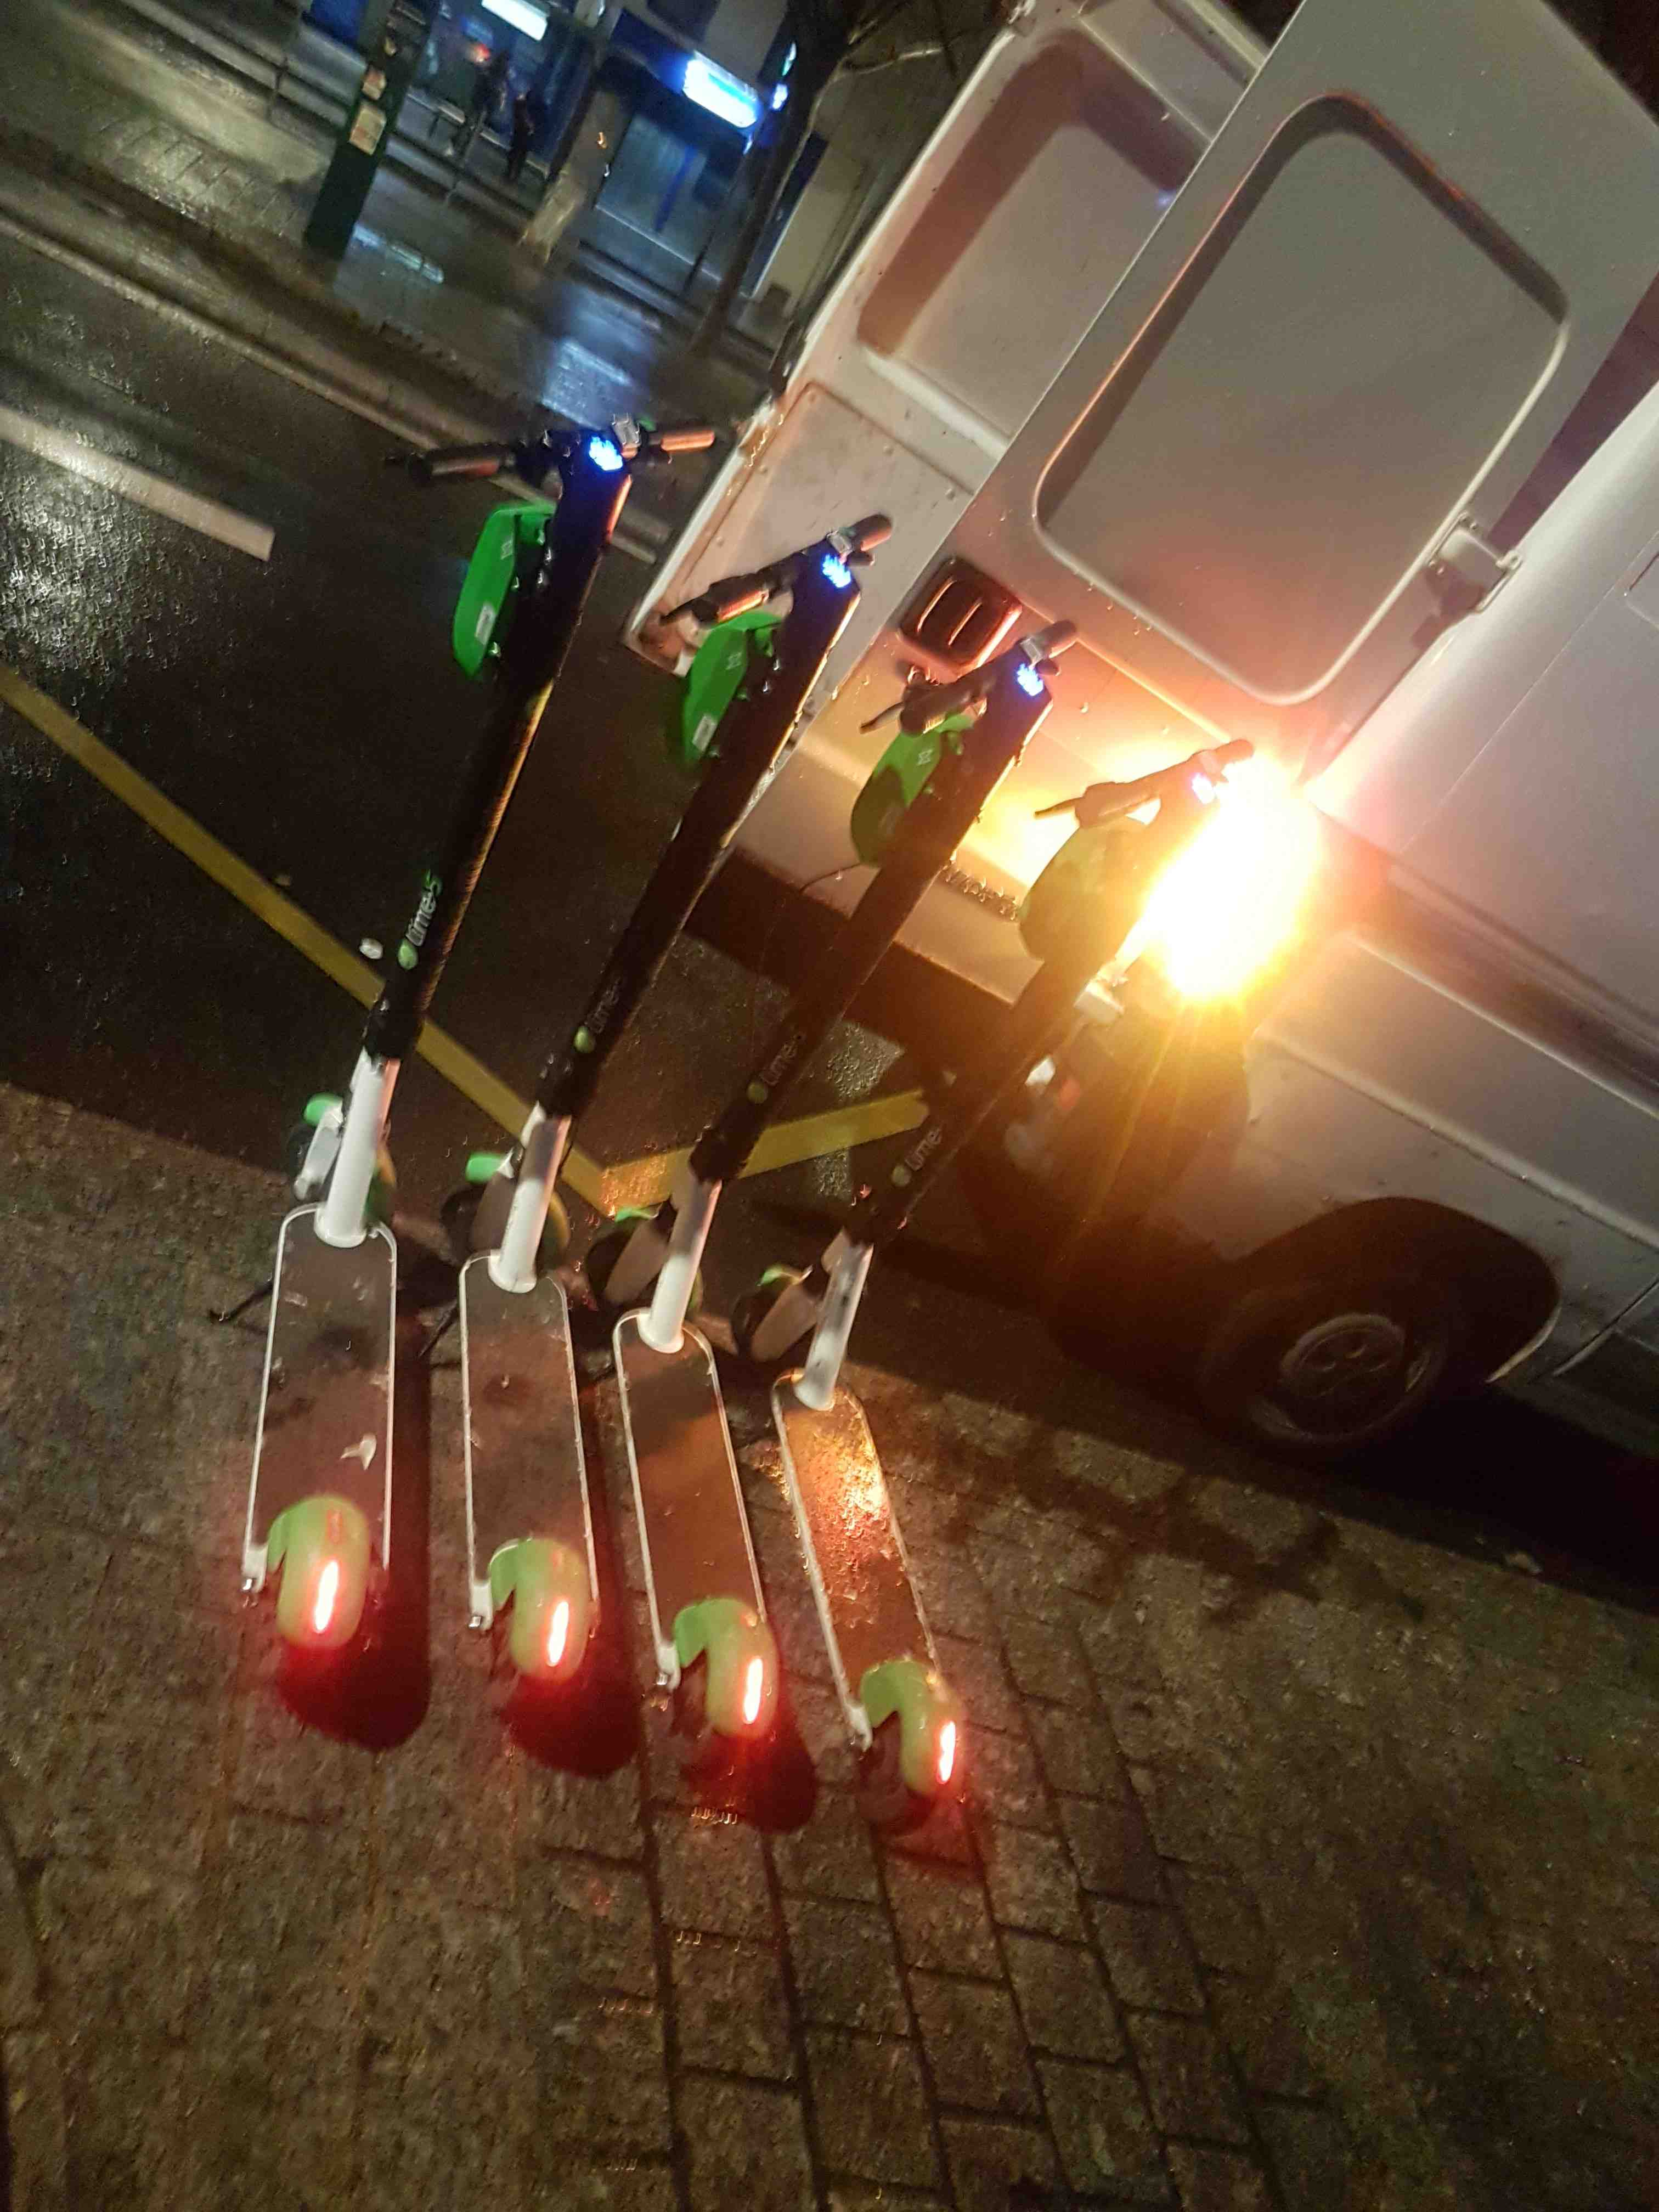too close: (427, 1111, 636, 1404), (218, 1054, 444, 1320), (727, 1221, 951, 1468)
